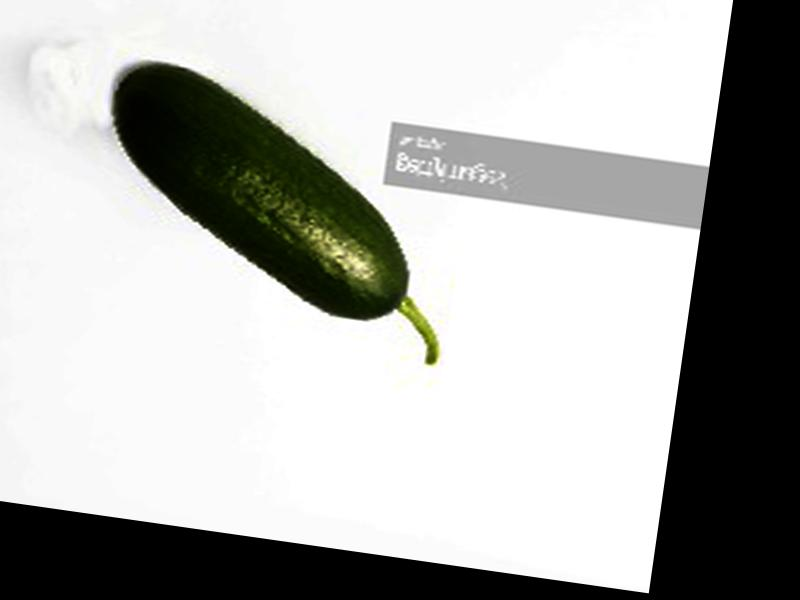Cucumber: (87, 56, 479, 363)
